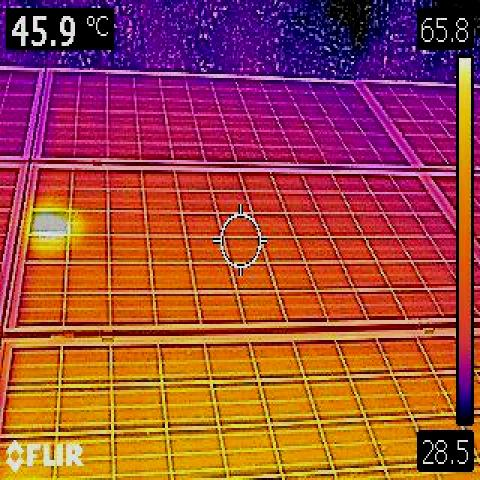fault: (33, 211, 66, 231)
